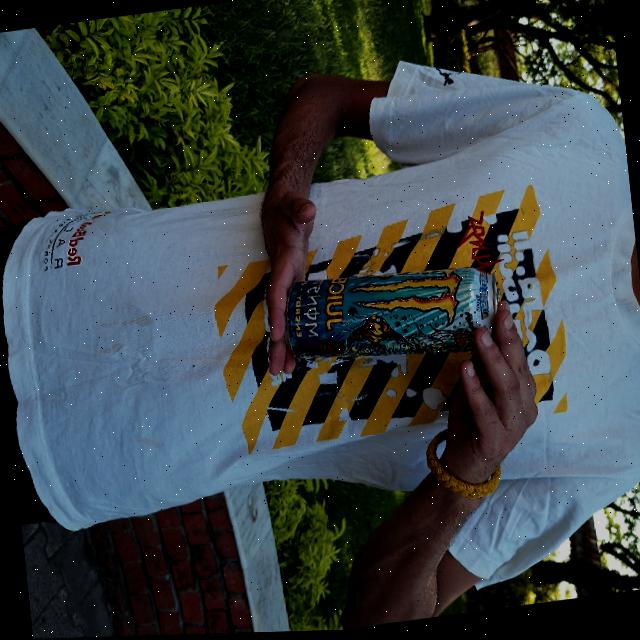Monster Aussie Lemonade: (281, 256, 495, 377)
